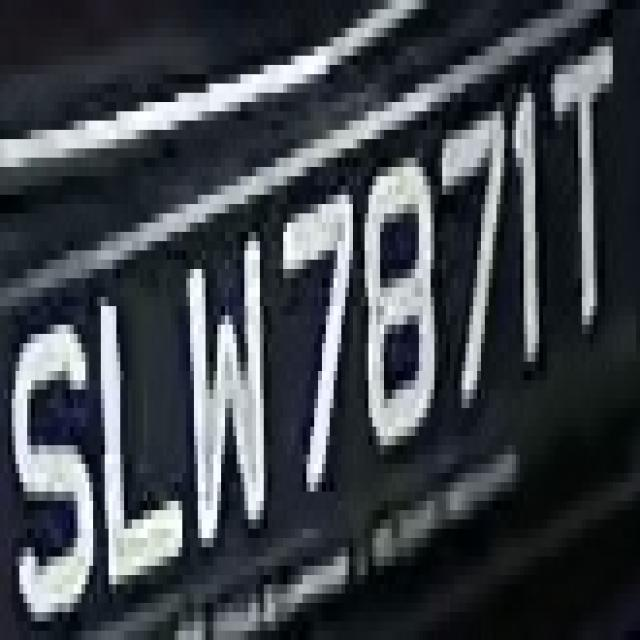1: (500, 65, 551, 408)
7: (260, 167, 364, 510), (427, 102, 516, 427)
8: (349, 158, 438, 445)
L: (93, 250, 194, 603)
S: (0, 4, 1, 10)
T: (536, 19, 628, 352)
W: (170, 214, 272, 556)
